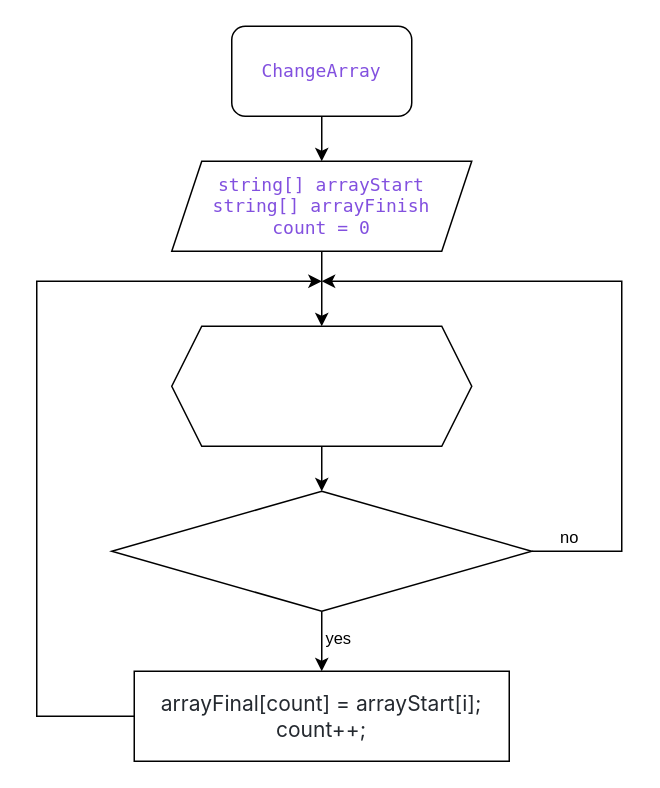
Image size: 660x788. Some labels were removed from this diagram. Each missing label, with the box of its shape:
for ( int i = 0 ; i < arrayStart . Length ; i ++ ): (170, 325, 472, 446)
if ( arrayStart [ i ]. Length <= 3 ): (110, 490, 532, 611)
